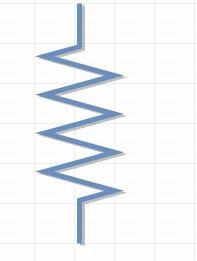resistor: (25, 25, 131, 226)
